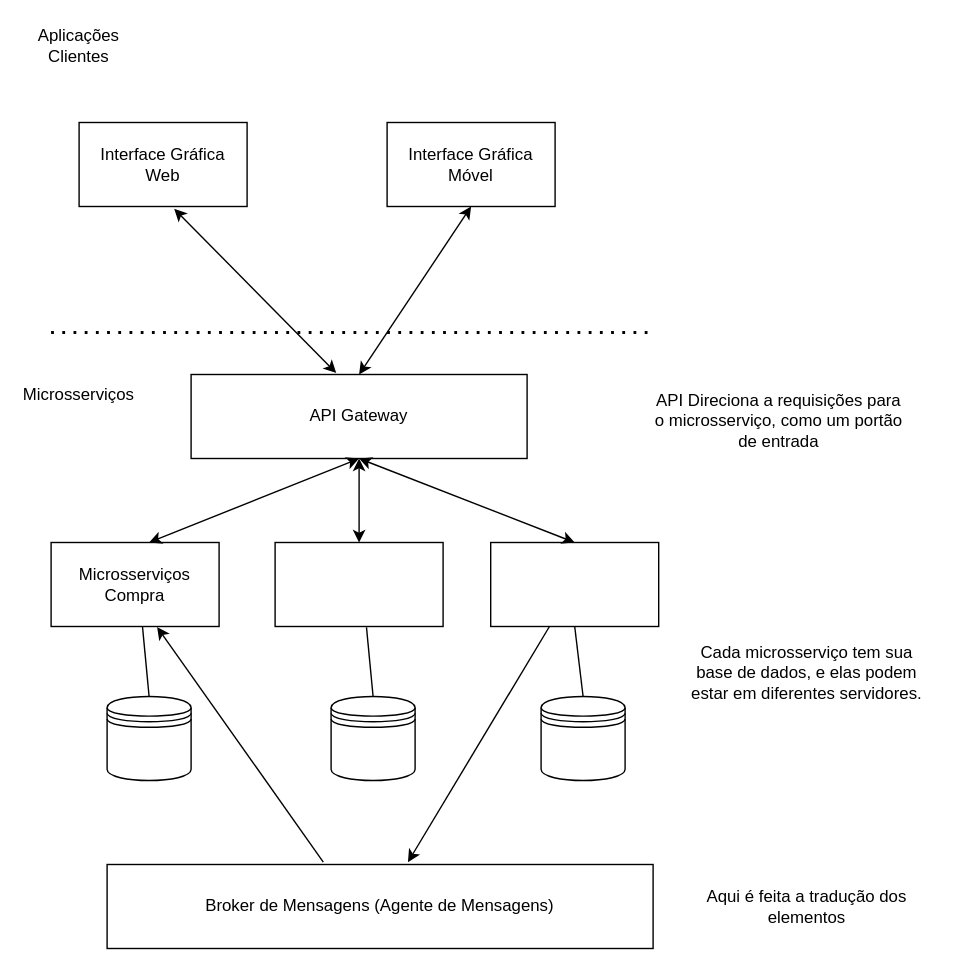
Image size: 958x973. Some labels were removed from this diagram. The shapes that lost their labels are listed below. From the top down, each one's box as (x1, y1, x2, y2) in pixels, then its label:
(274, 541, 443, 626): Microsserviços Venda
(489, 541, 659, 626): Microsserviços Envio
